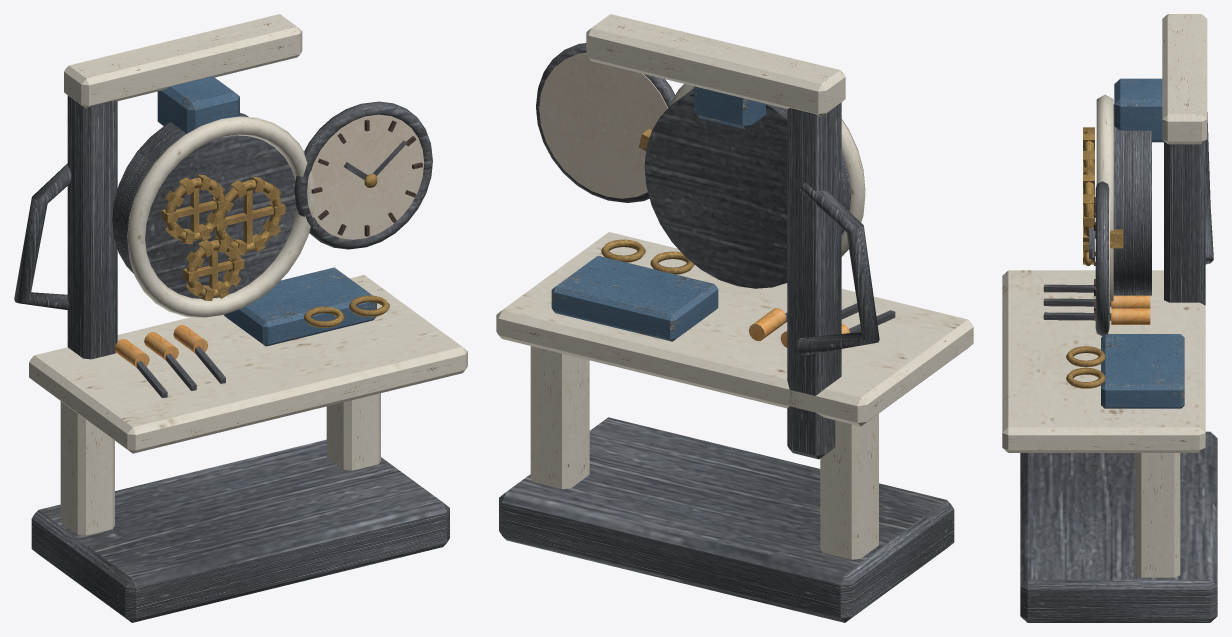
Rendered from revised-09-02.glb.
3 views of the same model, side by side, from view 1: azimuth 30°, elevation 25°; view 2: azimuth 150°, elevation 25°; view 3: azimuth 270°, elevation 25° (orthographic). The views are drawn at different scales.
Parts seen in each view (by area): view 1: clock_station; view 2: clock_station; view 3: clock_station.
Boxes of the visible parts, box(x1,y1,x2,y2) form: clock_station: box(14, 14, 467, 622); clock_station: box(496, 14, 973, 622); clock_station: box(1002, 14, 1217, 622).
Size of the model in its own units: 1.37 by 1.74 by 0.72.
Materials: 2 (2 with a texture image).
